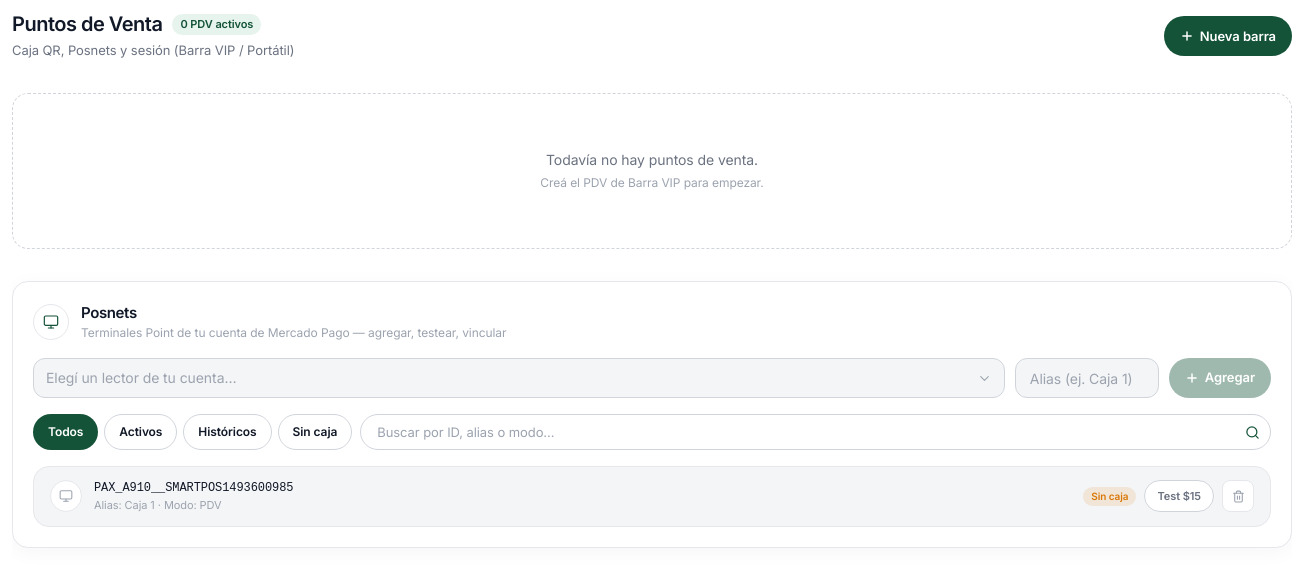
Test case: PdvSection › el Test $15 viaja con el deviceId de la fila y el resultado se renderiza
Click the button "Test $15" at (1179, 496), box [1144,480,1214,512]
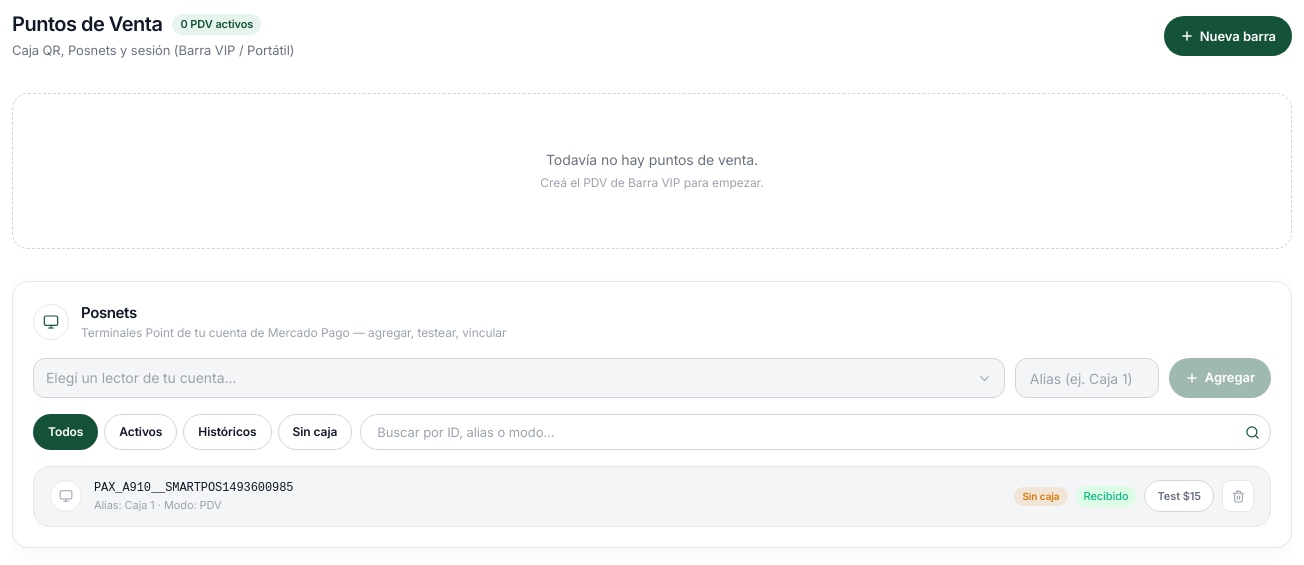
Expected: the text "Recibido" is shown, [1076,486,1136,506]
